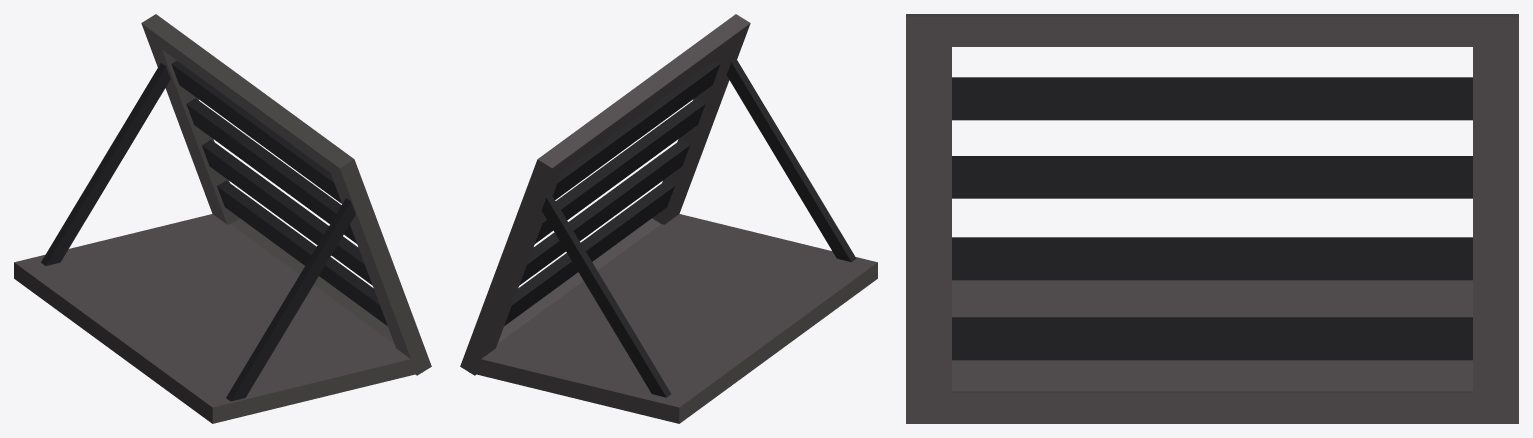
The model's file is raochan.fbx.
3 renders of one model, left to right at view 1: azimuth 30°, elevation 25°; view 2: azimuth 150°, elevation 25°; view 3: azimuth 270°, elevation 25°, orthographic. The views are drawn at different scales.
Visible parts, largest first — view 1: raochan; view 2: raochan; view 3: raochan.
Boxes of the visible parts, box(x1,y1,x2,y2) form: raochan: box(14, 14, 431, 423); raochan: box(460, 14, 877, 423); raochan: box(906, 14, 1518, 423).
Size of the model in its own units: 147 by 149 by 231.
